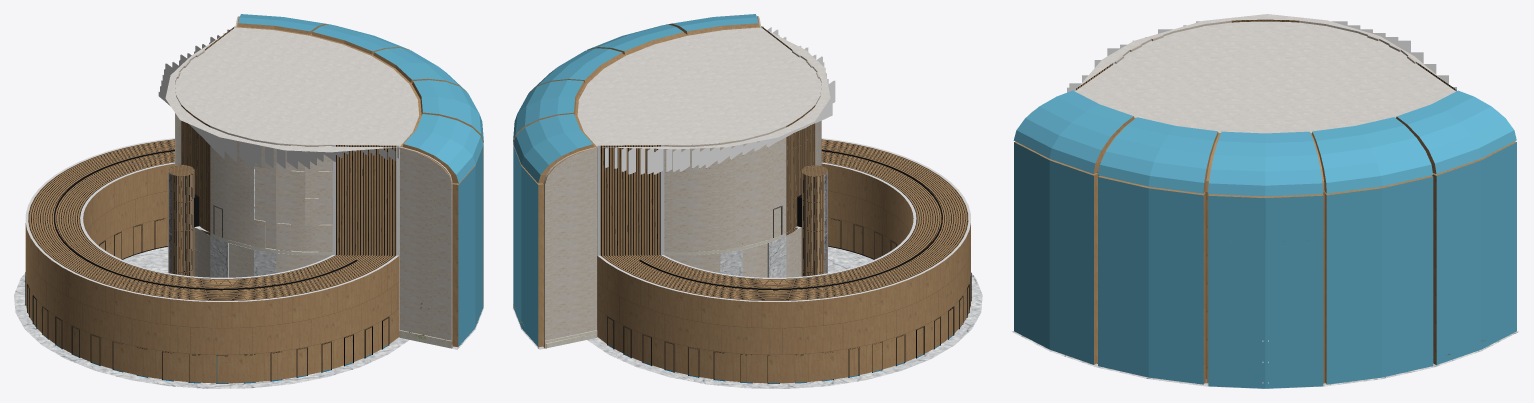
File: walls_3_3.fbx
3 renders of one model, left to right at view 1: azimuth 30°, elevation 25°; view 2: azimuth 150°, elevation 25°; view 3: azimuth 270°, elevation 25°, orthographic. The views are drawn at different scales.
Parts seen in each view (by area): view 1: Cylinder.242, Cylinder.011, Cylinder.010, Cylinder.001, Cylinder.253, Cylinder.257, Cylinder.241, Cylinder.014, Cylinder.003, Cylinder.007, Cylinder.100, Cylinder.300 (+10 smaller); view 2: Cylinder.242, Cylinder.011, Cylinder.010, Cylinder.001, Cylinder.252, Cylinder.255, Cylinder.241, Cylinder.014, Cylinder.100, Cylinder.003, Cylinder.007, Cylinder.300 (+10 smaller); view 3: Cylinder.001, Cylinder.011, Cylinder.003, Cylinder.014, Cylinder.100.
Part boxes in pixels (left/top/right/bottom): Cylinder.242: left=25, top=223, right=399, bottom=383; Cylinder.011: left=165, top=27, right=418, bottom=152; Cylinder.010: left=28, top=27, right=396, bottom=300; Cylinder.001: left=238, top=14, right=483, bottom=346; Cylinder.253: left=210, top=126, right=332, bottom=252; Cylinder.257: left=399, top=147, right=452, bottom=341; Cylinder.241: left=83, top=163, right=174, bottom=259; Cylinder.014: left=14, top=246, right=483, bottom=388; Cylinder.003: left=235, top=18, right=483, bottom=347; Cylinder.007: left=25, top=26, right=399, bottom=301; Cylinder.100: left=158, top=29, right=418, bottom=169; Cylinder.300: left=168, top=165, right=194, bottom=276; Cylinder.242: left=597, top=223, right=970, bottom=383; Cylinder.011: left=577, top=27, right=830, bottom=149; Cylinder.010: left=600, top=27, right=968, bottom=300; Cylinder.001: left=513, top=14, right=758, bottom=346; Cylinder.252: left=664, top=126, right=786, bottom=252; Cylinder.255: left=544, top=147, right=597, bottom=341; Cylinder.241: left=821, top=163, right=913, bottom=259; Cylinder.014: left=513, top=246, right=982, bottom=388; Cylinder.100: left=590, top=26, right=835, bottom=174; Cylinder.003: left=513, top=18, right=760, bottom=348; Cylinder.007: left=597, top=26, right=970, bottom=301; Cylinder.300: left=801, top=165, right=827, bottom=276; Cylinder.001: left=1013, top=90, right=1516, bottom=388; Cylinder.011: left=1075, top=14, right=1455, bottom=133; Cylinder.003: left=1014, top=116, right=1516, bottom=383; Cylinder.014: left=1012, top=331, right=1518, bottom=388; Cylinder.100: left=1067, top=21, right=1456, bottom=92.
Size of the model in its own units: 3563 by 1610 by 3283.
